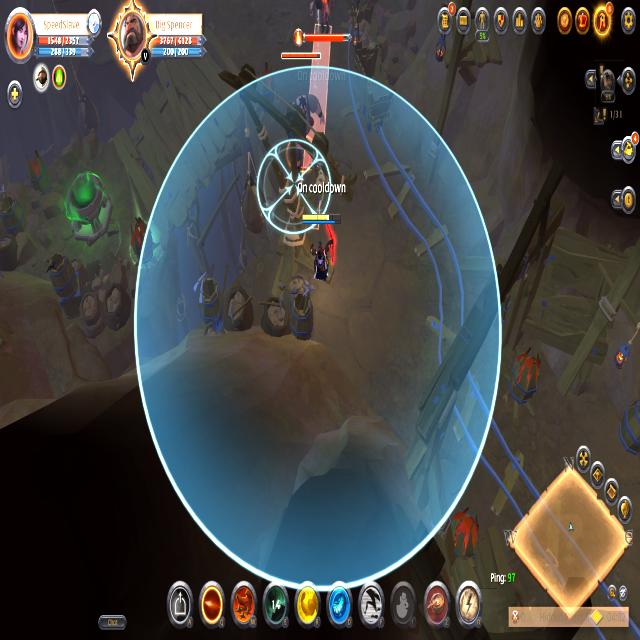ore: (277, 48, 327, 165), (305, 0, 334, 33)
red: (302, 204, 342, 294)
silver: (299, 23, 334, 232)
